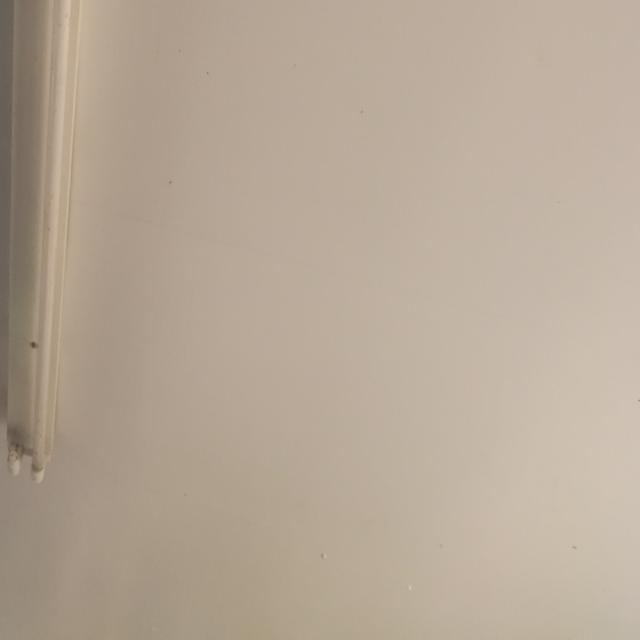fluorescent tube: (0, 0, 125, 491)
